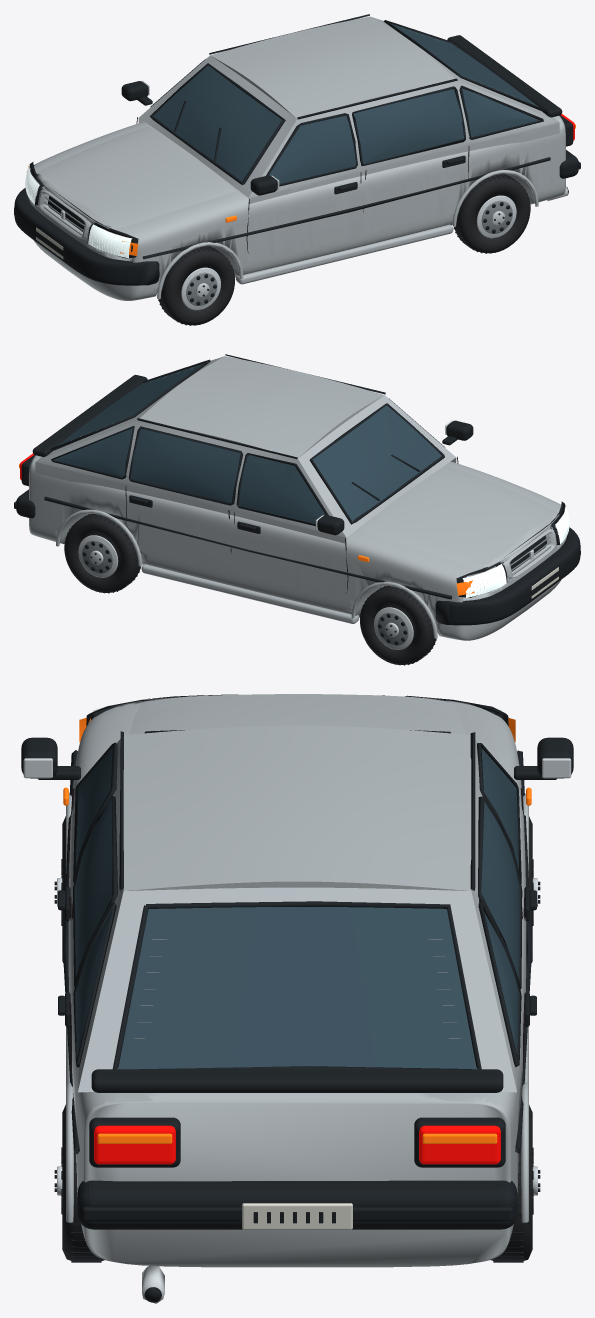
Rendered from nine.glb.
3 renders of one model, top to bottom at view 1: azimuth 30°, elevation 25°; view 2: azimuth 150°, elevation 25°; view 3: azimuth 270°, elevation 25°, orthographic. The views are drawn at different scales.
Visible parts, largest first — view 1: Body_Paint_nine, Body_Curved smoked glass.004, Body_Black trim.004, StockBumpers_Black trim.004, Wheel_RR_Tyre.004, Wheel_FR_Tyre.004, StockSkirts_Paint_nine, StockSpoiler_Black trim.004, Body_Prismatic headlight glass.004, StockFenders_Paint_nine, Wheel_FR_Machined aluminium.004, Wheel_RR_Machined aluminium.004 (+3 smaller); view 2: Body_Paint_nine, Body_Curved smoked glass.004, Body_Black trim.004, StockBumpers_Black trim.004, Wheel_RL_Tyre.004, Wheel_FL_Tyre.004, StockSkirts_Paint_nine, StockSpoiler_Black trim.004, StockFenders_Paint_nine, Body_Prismatic headlight glass.004, Wheel_RL_Machined aluminium.004, Wheel_FL_Machined aluminium.004 (+4 smaller); view 3: Body_Paint_nine, Body_Curved smoked glass.004, Body_Black trim.004, StockBumpers_Black trim.004, StockSpoiler_Black trim.004, Body_Red lens.004, Body_Numberplate.004, StockFenders_Paint_nine, Body_Amber lens.004, Body_Machined aluminium.004, Wheel_RL_Tyre.004, Wheel_RR_Tyre.004.
Part boxes in pixels (x1,y1,x2,y2): Body_Paint_nine: (28, 16, 565, 300); Body_Curved smoked glass.004: (153, 23, 539, 183); Body_Black trim.004: (27, 14, 573, 259); StockBumpers_Black trim.004: (14, 150, 580, 285); Wheel_RR_Tyre.004: (454, 174, 530, 253); Wheel_FR_Tyre.004: (158, 246, 234, 325); StockSkirts_Paint_nine: (236, 224, 453, 284); StockSpoiler_Black trim.004: (447, 35, 562, 117); Body_Prismatic headlight glass.004: (25, 164, 132, 258); StockFenders_Paint_nine: (157, 170, 538, 298); Wheel_FR_Machined aluminium.004: (181, 267, 220, 310); Wheel_RR_Machined aluminium.004: (476, 195, 516, 238); Body_Paint_nine: (29, 356, 566, 640); Body_Curved smoked glass.004: (53, 363, 441, 524); Body_Black trim.004: (21, 354, 565, 599); StockBumpers_Black trim.004: (14, 489, 580, 625); Wheel_RL_Tyre.004: (64, 513, 140, 592); Wheel_FL_Tyre.004: (360, 585, 435, 664); StockSkirts_Paint_nine: (141, 564, 358, 623); StockSpoiler_Black trim.004: (32, 374, 147, 456); StockFenders_Paint_nine: (56, 509, 437, 638); Body_Prismatic headlight glass.004: (462, 504, 569, 597); Wheel_RL_Machined aluminium.004: (78, 535, 118, 577); Wheel_FL_Machined aluminium.004: (374, 607, 413, 649); Body_Paint_nine: (68, 694, 526, 1267); Body_Curved smoked glass.004: (75, 748, 519, 1069); Body_Black trim.004: (21, 694, 573, 1302); StockBumpers_Black trim.004: (77, 1180, 517, 1229); StockSpoiler_Black trim.004: (91, 1069, 503, 1092); Body_Red lens.004: (94, 1125, 500, 1164); Body_Numberplate.004: (242, 1203, 352, 1229); StockFenders_Paint_nine: (66, 793, 528, 1222); Body_Amber lens.004: (63, 717, 531, 1143); Body_Machined aluminium.004: (23, 758, 571, 1303); Wheel_RL_Tyre.004: (491, 1105, 532, 1261); Wheel_RR_Tyre.004: (62, 1104, 104, 1261).
Bounding box in the file's own units: 4.01 × 1.4 × 1.99.
